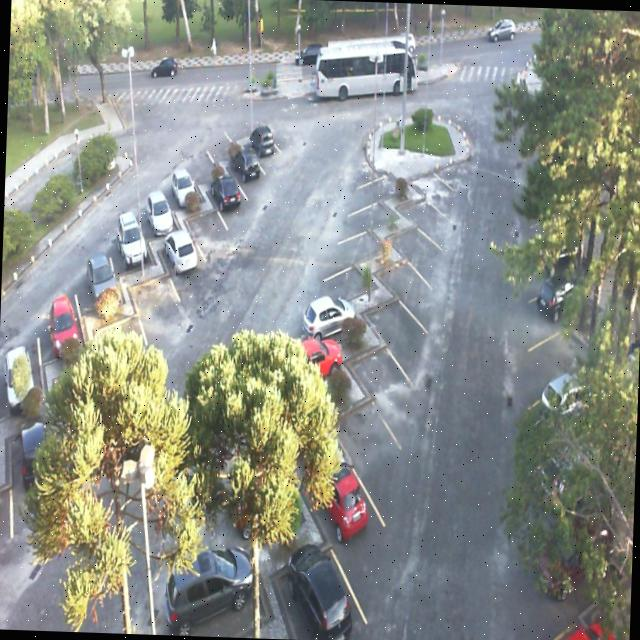empty: (329, 382, 402, 486), (350, 327, 416, 412), (358, 279, 422, 351), (129, 250, 178, 328), (378, 237, 437, 300), (320, 238, 377, 292), (182, 182, 228, 246), (323, 208, 382, 256), (390, 202, 442, 256), (402, 176, 453, 223), (348, 179, 400, 223), (414, 154, 462, 199), (206, 106, 244, 160), (187, 129, 225, 182), (352, 151, 402, 191)
occupied: (177, 524, 276, 638), (279, 510, 359, 638), (308, 452, 390, 566), (72, 224, 126, 306), (38, 268, 88, 356), (292, 282, 358, 346), (108, 196, 156, 272), (162, 214, 204, 283), (138, 176, 184, 238), (210, 161, 252, 214), (226, 130, 268, 183), (164, 149, 203, 206), (246, 113, 282, 164)
